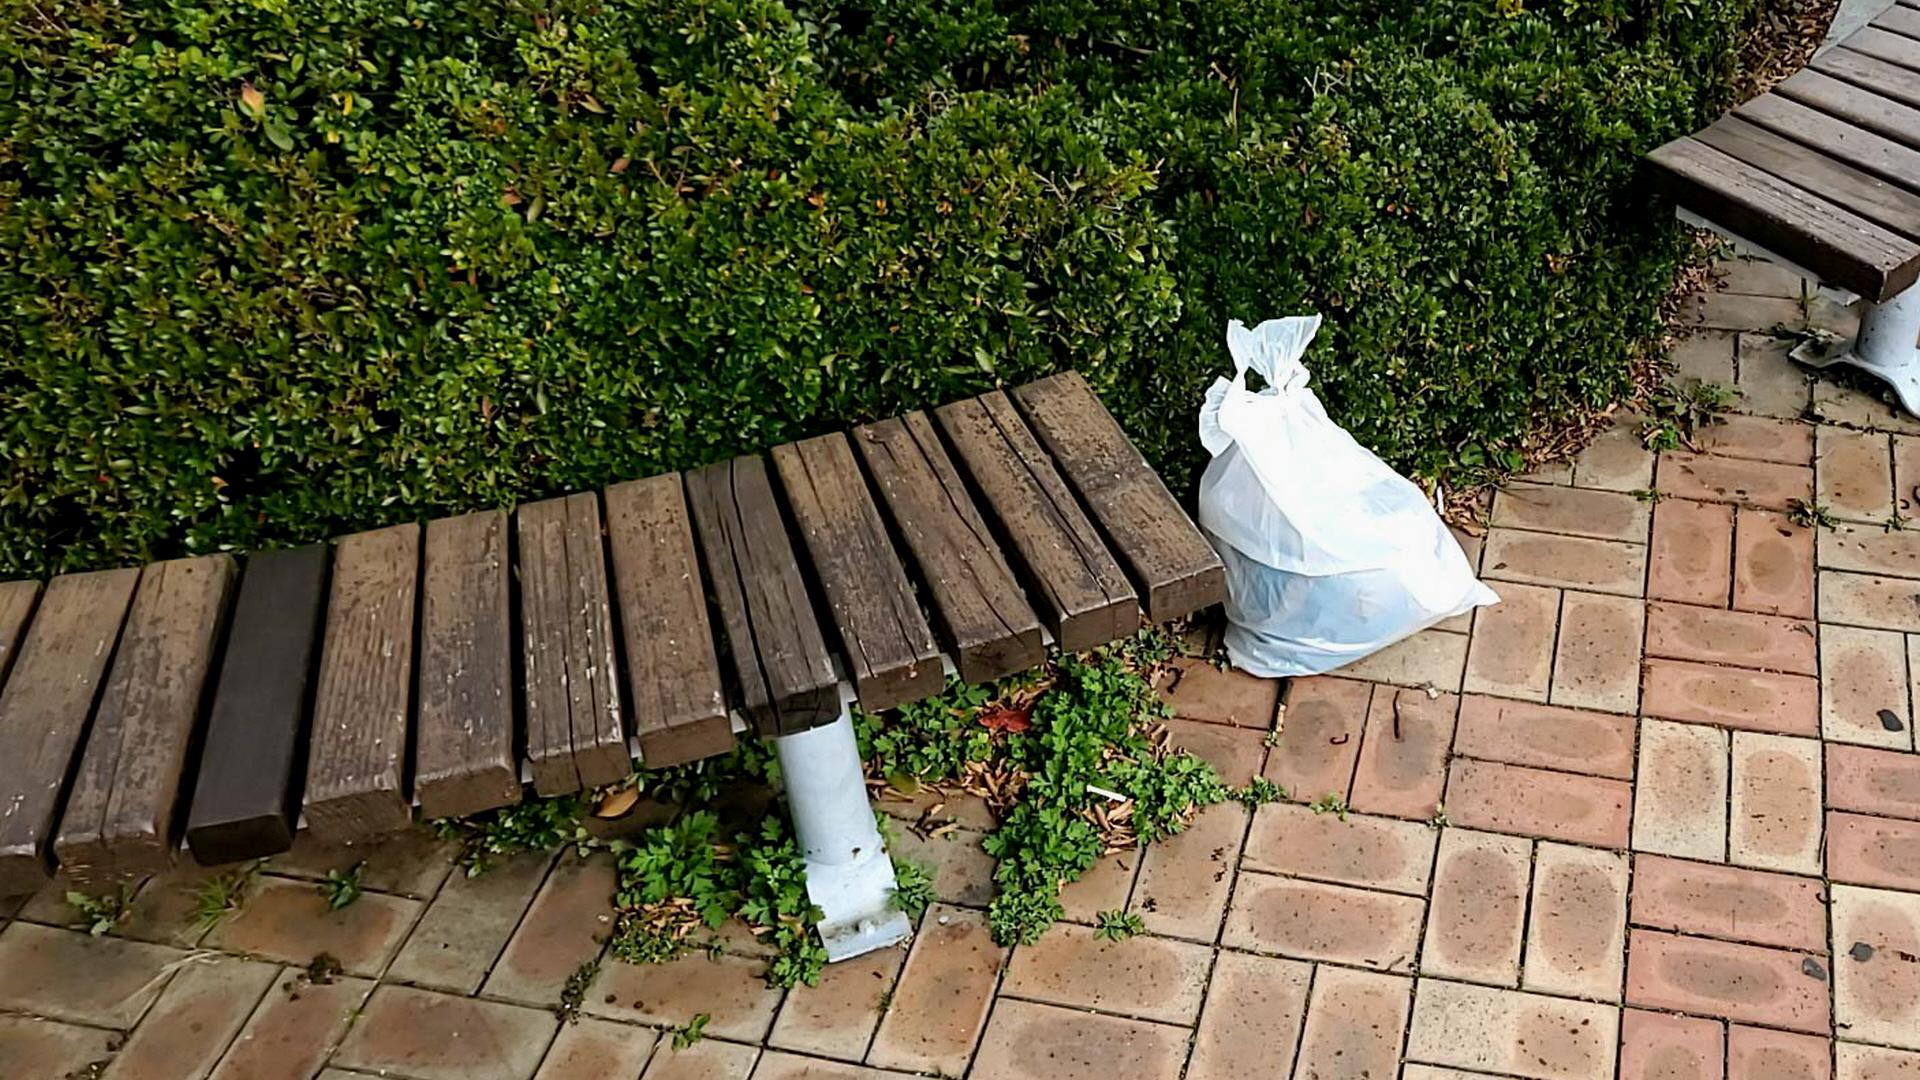white_bag: (1162, 301, 1514, 684)
